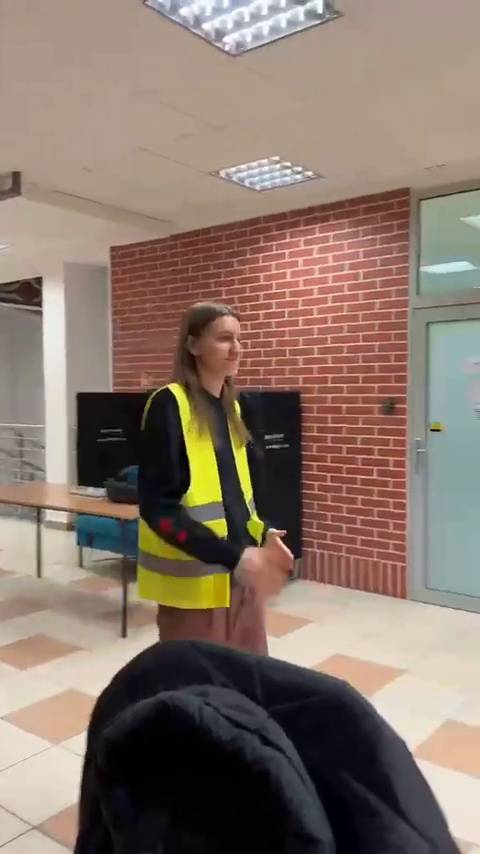vest: (139, 304, 296, 647)
